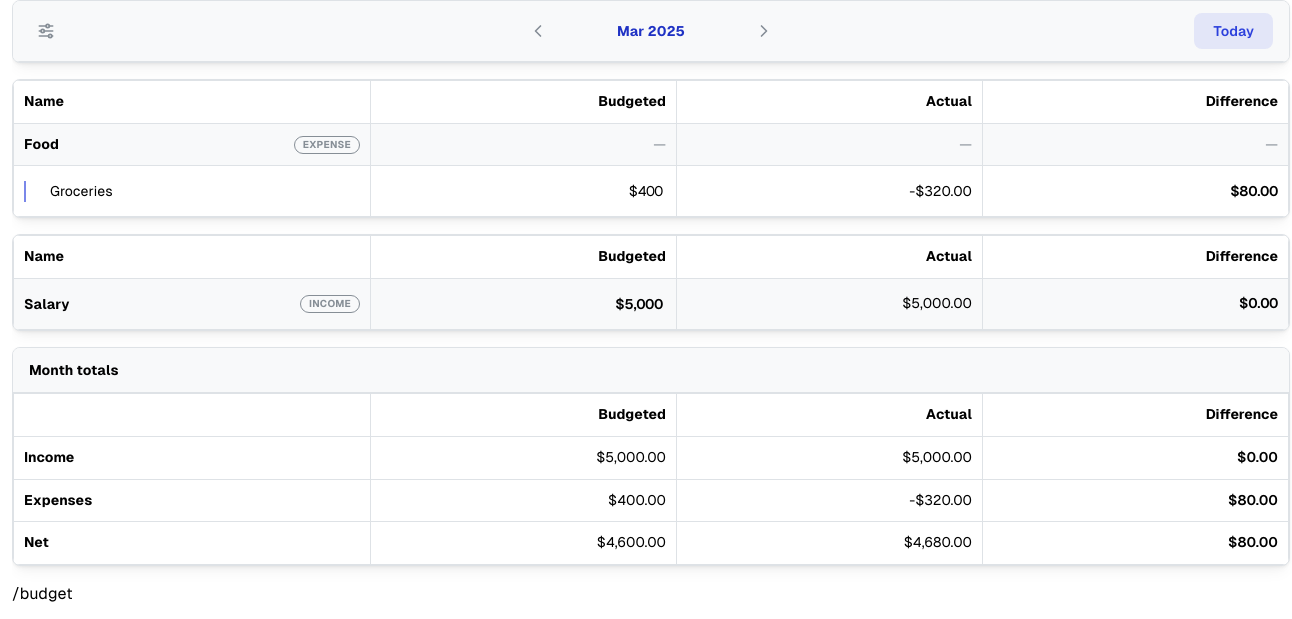
Test case: BudgetMonthView › keeps the month options control when navigating to a past month
Check: the button named "Month options" is shown, box [29,14,63,48]
Click the button named "Previous month": (538, 31) [521,14,555,48]
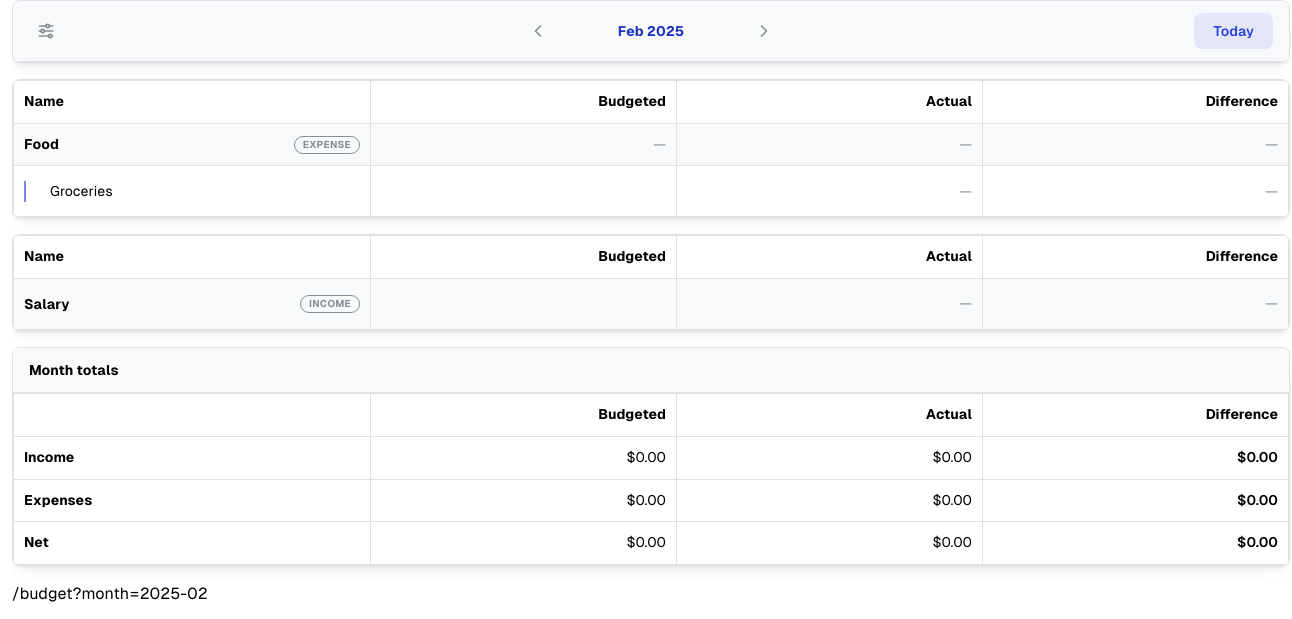
Check: the button named "Month options" is shown, box [29,14,63,48]
Check: the text "Feb 2025" is shown, box [618,23,684,39]
